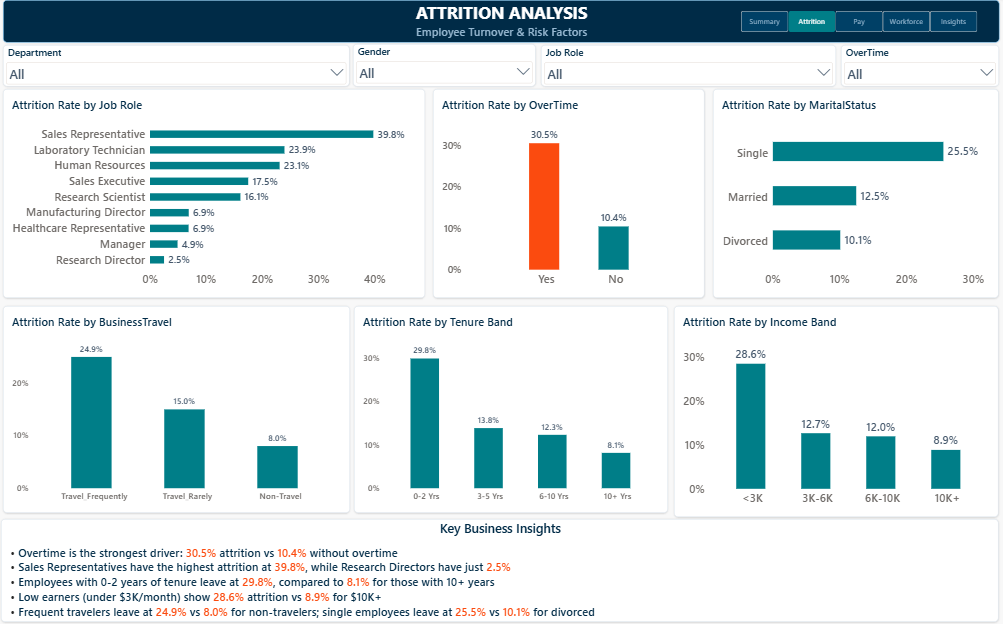

This screenshot's page, from the dashboard's own definition file:
{"tool":"powerbi","page":{"name":"Attrition","canvas":[1920,1200],"ordinal":1},"visuals":[{"type":"textbox","title":"ATTRITION ANALYSIS","box":[13.7,5.1,1897.7,80.6],"z":0},{"type":"slicer","fields":{"Values":["HR_Data.Department"]},"box":[13.7,90.9,660,78.9],"z":1000},{"type":"slicer","fields":{"Values":["HR_Data.Gender"]},"box":[680.6,89.1,348,80.6],"z":2000},{"type":"slicer","fields":{"Values":["HR_Data.JobRole"]},"box":[1038.9,90.9,562.3,78.9],"z":3000},{"type":"clusteredBarChart","title":"Attrition Rate by Job Role","fields":{"Category":["HR_Data.JobRole"],"Y":["_Measures.Attrition Rate"]},"box":[14.1,175.8,804.4,398.1],"z":4000},{"type":"clusteredColumnChart","fields":{"Category":["HR_Data.OverTime"],"Y":["_Measures.Attrition Rate"]},"box":[832.7,175.8,517.4,398.1],"z":5000},{"type":"clusteredBarChart","fields":{"Category":["HR_Data.MaritalStatus"],"Y":["_Measures.Attrition Rate"]},"box":[1366.2,175.8,543.7,398.1],"z":6000},{"type":"clusteredColumnChart","fields":{"Category":["HR_Data.BusinessTravel"],"Y":["_Measures.Attrition Rate"]},"box":[14.1,588.1,660.9,394.1],"z":7000},{"type":"clusteredColumnChart","fields":{"Category":["HR_Data.Tenure Band"],"Y":["_Measures.Attrition Rate"]},"box":[681.1,588.1,598.2,394.1],"z":8000},{"type":"clusteredColumnChart","fields":{"Category":["HR_Data.Income Band"],"Y":["_Measures.Attrition Rate"]},"box":[1291.5,588.1,618.4,402.2],"z":9000},{"type":"textbox","title":"Key Business Insights","box":[10.1,994.4,1899.8,196],"z":10000},{"type":"slicer","fields":{"Values":["HR_Data.OverTime"]},"box":[1608.8,90.9,301.1,78.8],"z":13000},{"type":"pageNavigator","box":[1418.8,26.3,452.7,40.4],"z":14000}]}

Visuals, with their boxes in screenshot pixels (x1, y1, x2, y2), scaled from the page's 1920x1200 canvas onto the 1004x624 screenshot:
"ATTRITION ANALYSIS" textbox: (x1=7, y1=3, x2=1000, y2=45)
slicer - HR_Data.Department: (x1=7, y1=47, x2=352, y2=88)
slicer - HR_Data.Gender: (x1=356, y1=46, x2=538, y2=88)
slicer - HR_Data.JobRole: (x1=543, y1=47, x2=837, y2=88)
"Attrition Rate by Job Role" clusteredBarChart: (x1=7, y1=91, x2=428, y2=298)
clusteredColumnChart - HR_Data.OverTime x _Measures.Attrition Rate: (x1=435, y1=91, x2=706, y2=298)
clusteredBarChart - HR_Data.MaritalStatus x _Measures.Attrition Rate: (x1=714, y1=91, x2=999, y2=298)
clusteredColumnChart - HR_Data.BusinessTravel x _Measures.Attrition Rate: (x1=7, y1=306, x2=353, y2=511)
clusteredColumnChart - HR_Data.Tenure Band x _Measures.Attrition Rate: (x1=356, y1=306, x2=669, y2=511)
clusteredColumnChart - HR_Data.Income Band x _Measures.Attrition Rate: (x1=675, y1=306, x2=999, y2=515)
"Key Business Insights" textbox: (x1=5, y1=517, x2=999, y2=619)
slicer - HR_Data.OverTime: (x1=841, y1=47, x2=999, y2=88)
pageNavigator: (x1=742, y1=14, x2=979, y2=35)
